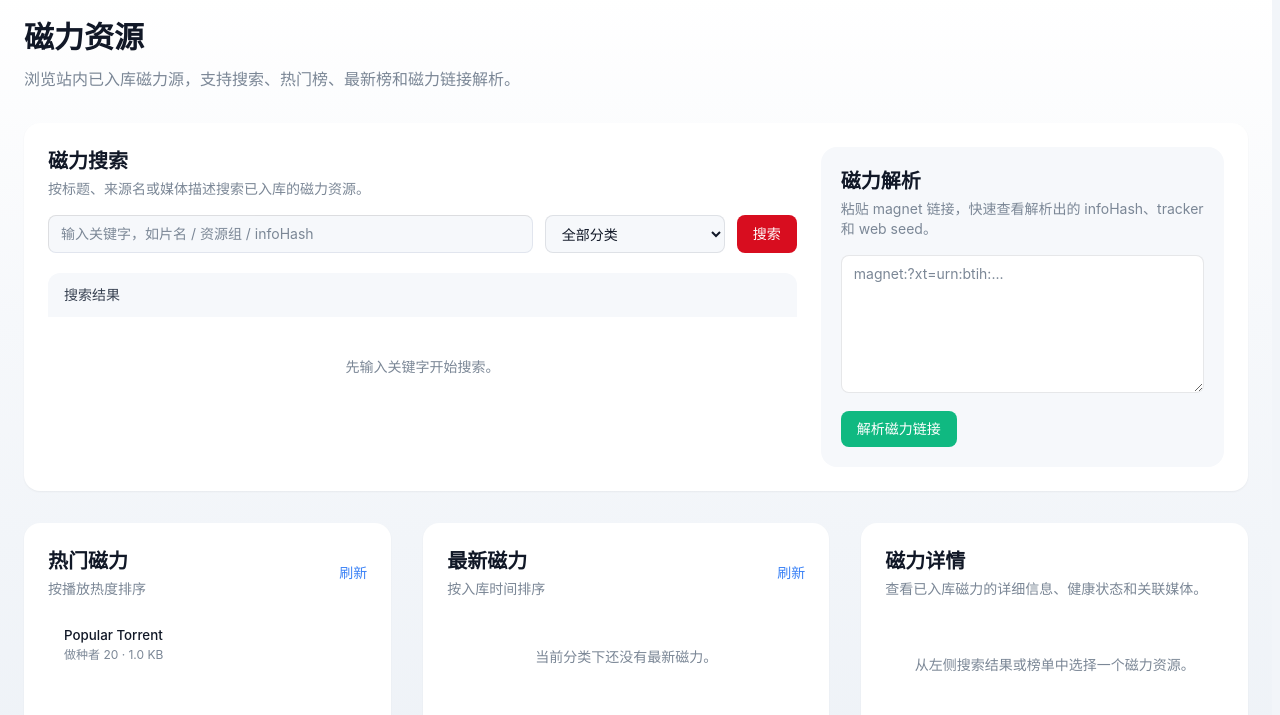
Test: TorrentView › loads rankings, searches torrents, and queues a selected task
Type "Demo" into the field with placeholder "输入关键字，如片名 / 资源组 / infoHash" at (290, 234), box [48,215,533,253]
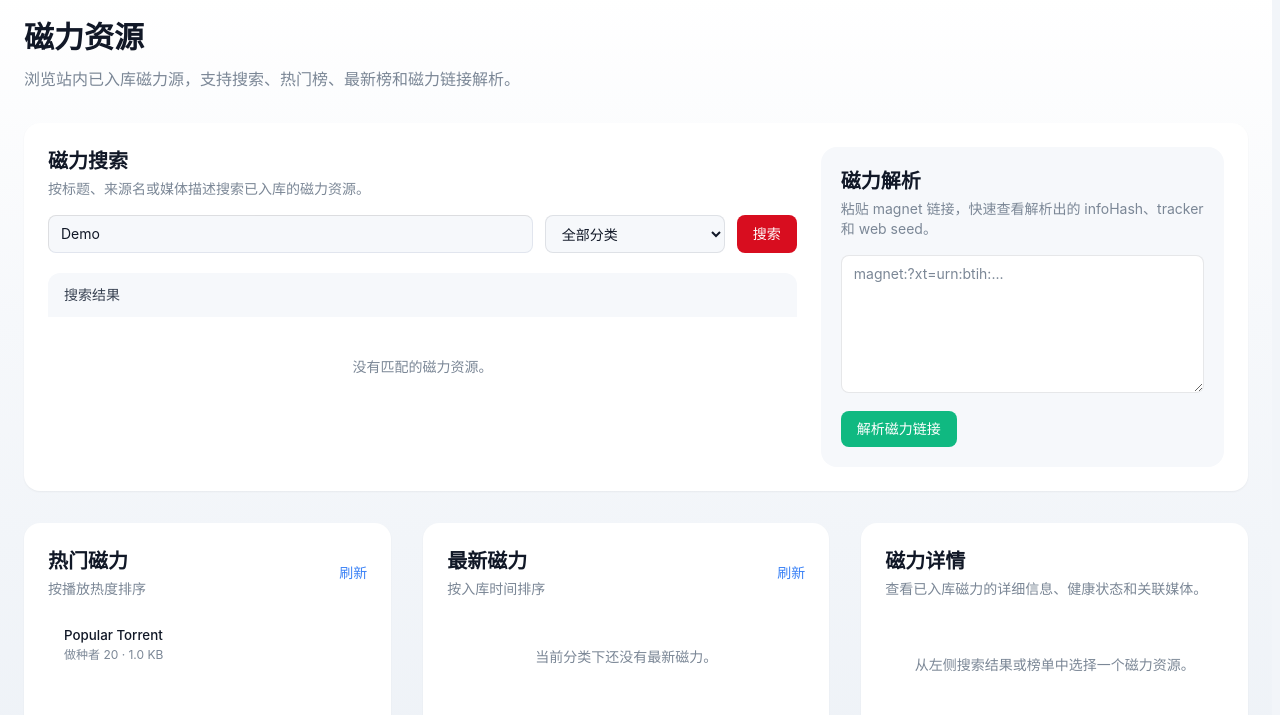
Submit the form "搜索", box [48,215,797,253]
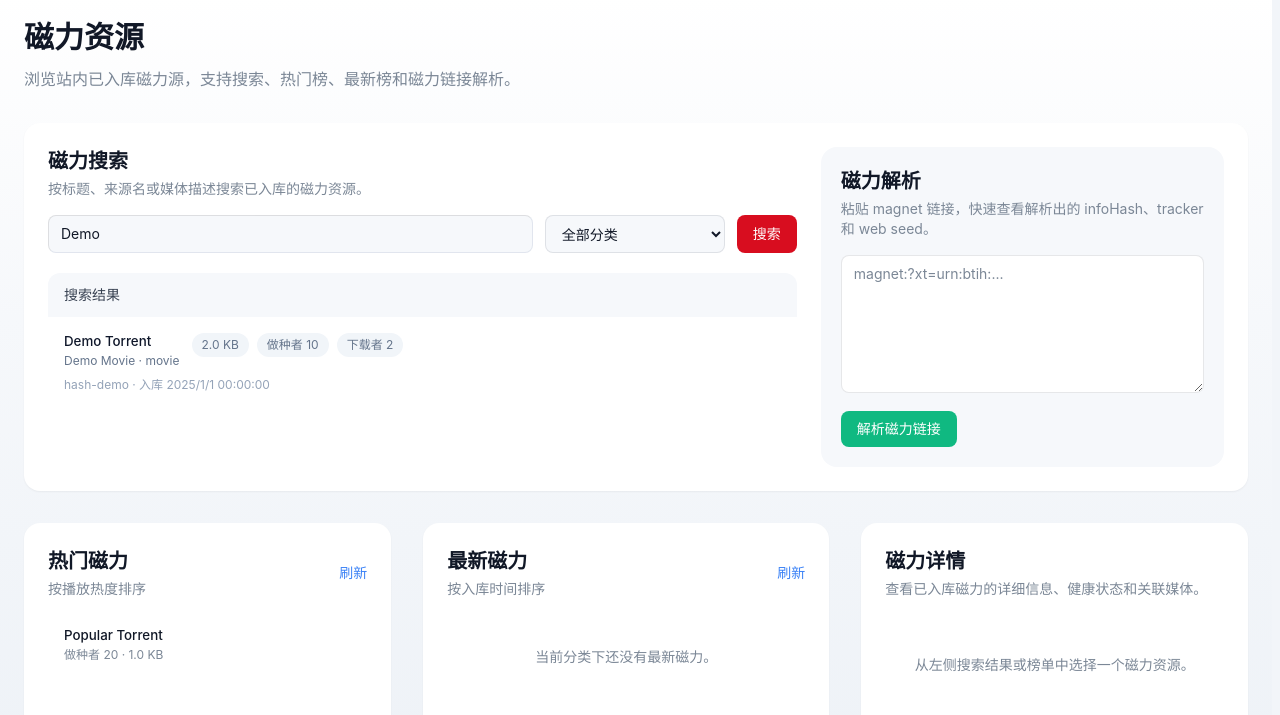
Now the button that starts with "Demo Torrent" is shown
Click the button that starts with "Demo Torrent" at (108, 341), box [48,317,797,409]
(page scrolled)
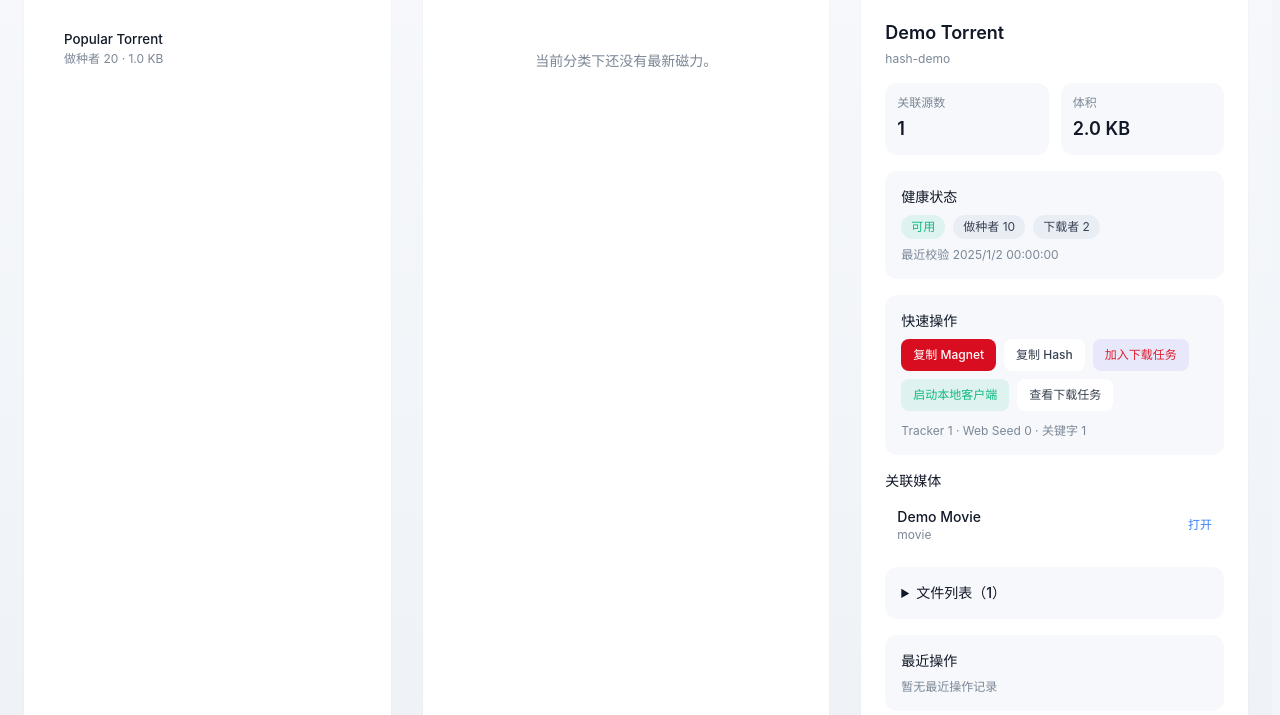
Now the button "加入下载任务" is shown
Click the button "加入下载任务" at (1141, 355), box [1093,339,1189,371]
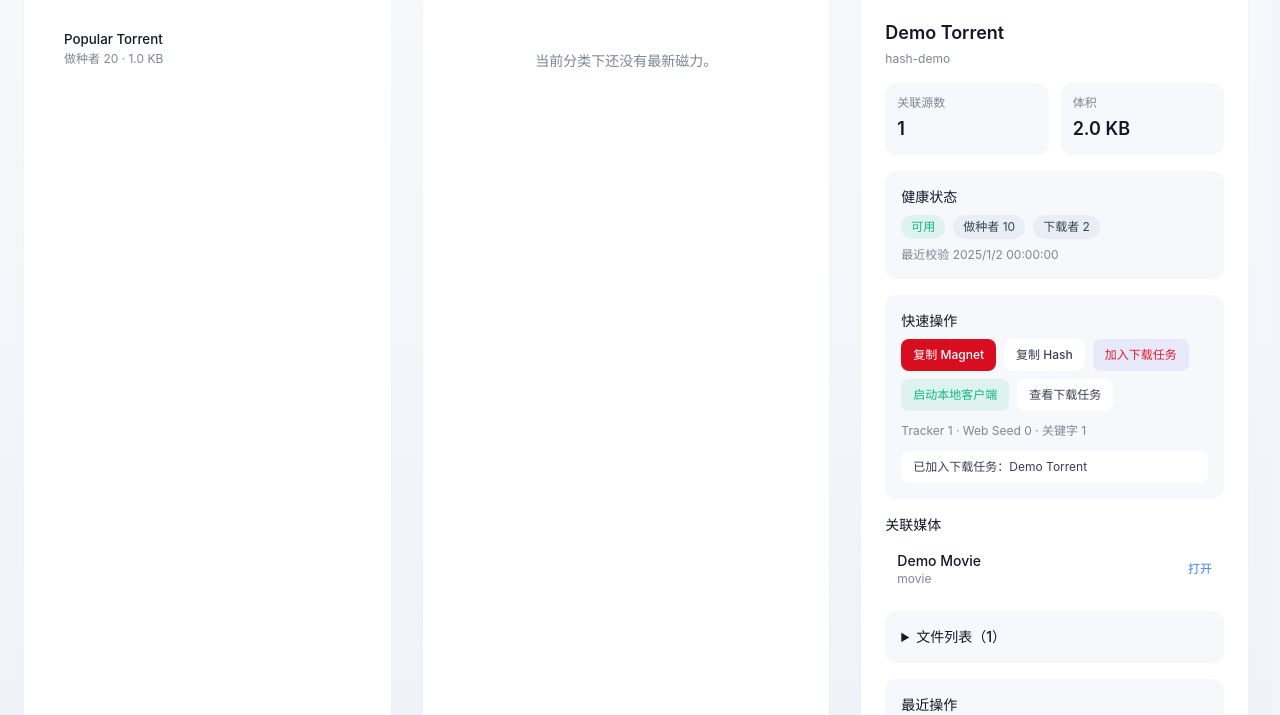
Now the text "已加入下载任务：Demo Torrent" is shown, box [901,451,1208,483]
